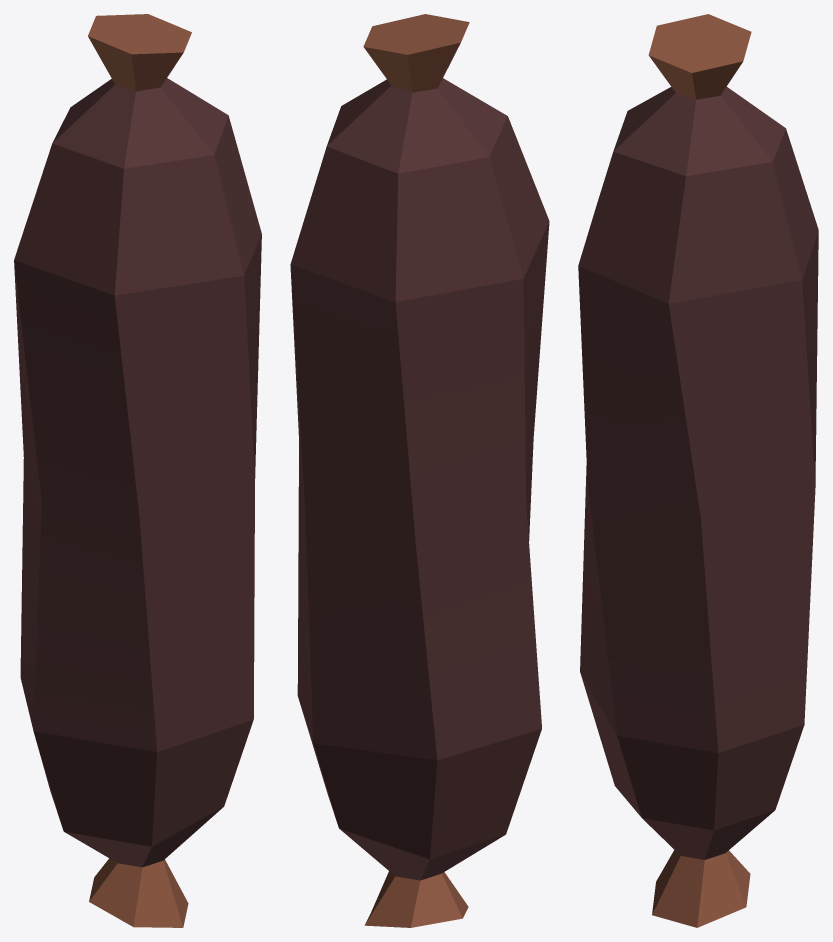
File: SM_Prop_Meat_Sausage_01.fbx
3 renders of one model, left to right at view 1: azimuth 30°, elevation 25°; view 2: azimuth 150°, elevation 25°; view 3: azimuth 270°, elevation 25°, orthographic. The views are drawn at different scales.
Visible parts, largest first — view 1: SM_Prop_Meat_Sausage_01; view 2: SM_Prop_Meat_Sausage_01; view 3: SM_Prop_Meat_Sausage_01.
Part boxes in pixels (<box>): SM_Prop_Meat_Sausage_01: <box>14,14,261,927</box>; SM_Prop_Meat_Sausage_01: <box>290,14,549,927</box>; SM_Prop_Meat_Sausage_01: <box>578,14,818,927</box>.
Size of the model in its own units: 12.45 by 45.64 by 11.44.
